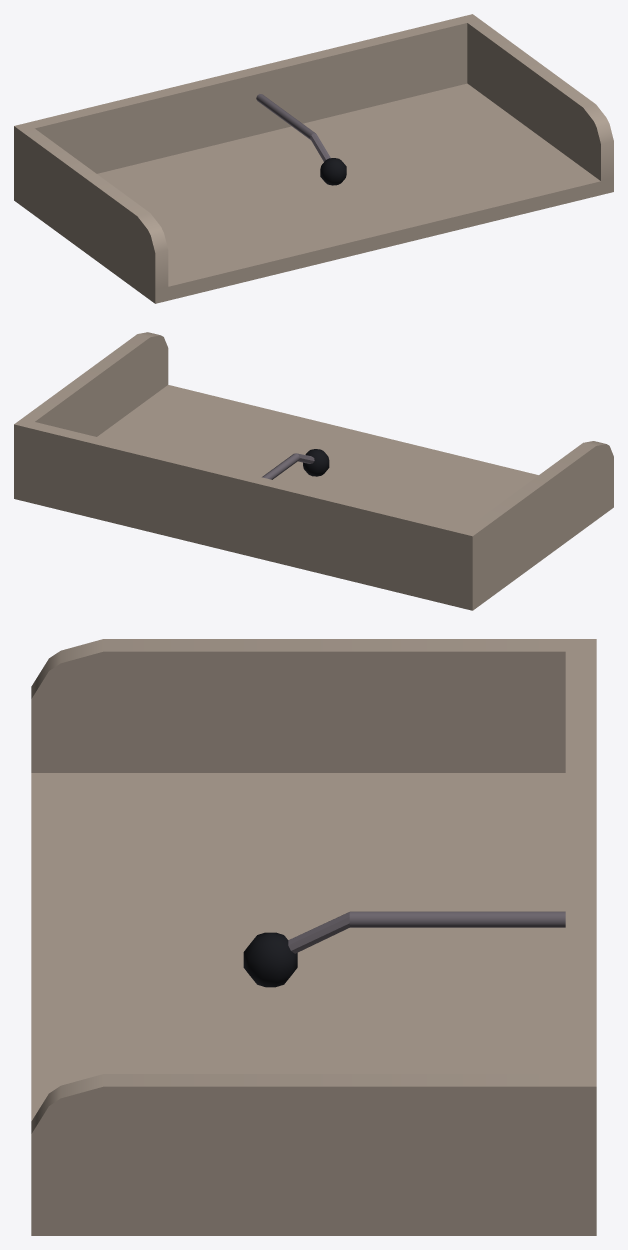
Rendered from SM_paper_box_02.fbx.
3 renders of one model, top to bottom at view 1: azimuth 30°, elevation 25°; view 2: azimuth 150°, elevation 25°; view 3: azimuth 270°, elevation 25°, orthographic. The views are drawn at different scales.
Parts seen in each view (by area): view 1: paper_box_02; view 2: paper_box_02; view 3: paper_box_02.
Boxes of the visible parts, x1,y1,x2,y2 form: paper_box_02: (14, 14, 613, 303); paper_box_02: (14, 332, 613, 610); paper_box_02: (31, 639, 596, 1235).
Size of the model in its own units: 60.67 by 9.42 by 32.36.
